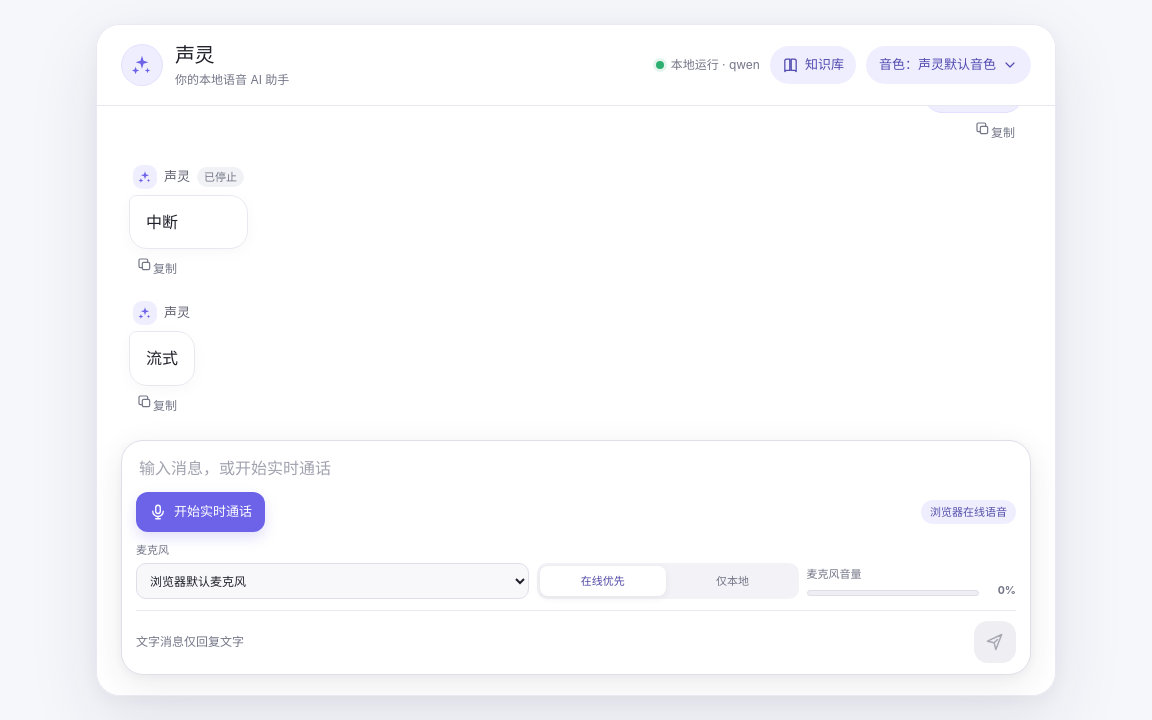
Test case: App › exposes a lazy-loaded local knowledge entry
(page scrolled)
Click the button "知识库" at (813, 65), box [770, 46, 856, 84]
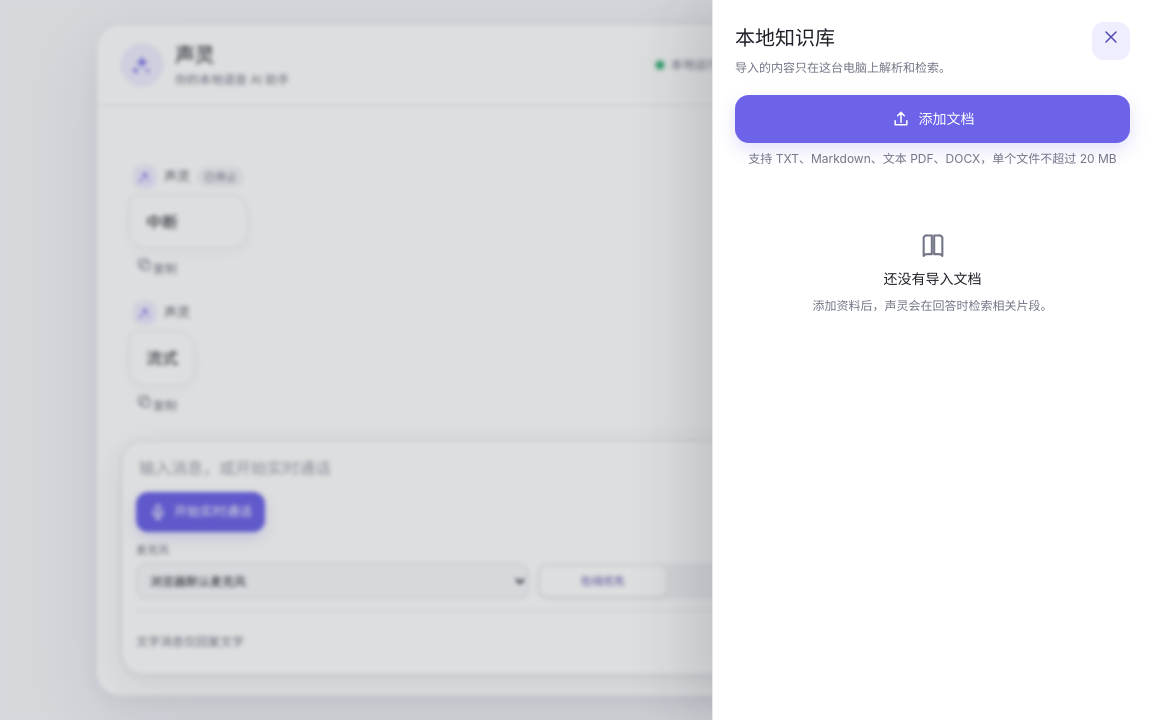
Check: the dialog "本地知识库" is shown, box [712, 0, 1151, 719]
